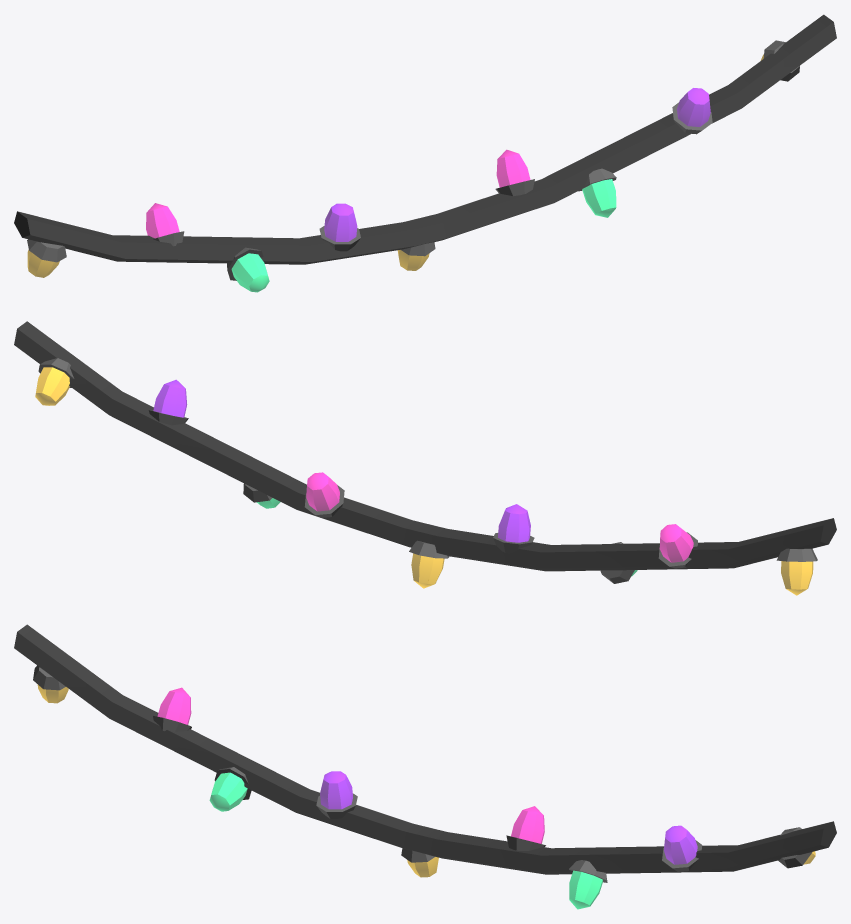
File: christmas_lights.glb
3 renders of one model, top to bottom at view 1: azimuth 30°, elevation 25°; view 2: azimuth 150°, elevation 25°; view 3: azimuth 330°, elevation 25°, orthographic.
Parts seen in each view (by area): view 1: pCylinder11; view 2: pCylinder11; view 3: pCylinder11.
Part boxes in pixels (x1,y1,x2,y2): pCylinder11: [14, 14, 836, 292]; pCylinder11: [14, 321, 836, 595]; pCylinder11: [14, 624, 836, 909].
Bounding box in the file's own units: 0.4722 × 0.0879 × 0.0447.
1 material, 1 textured.
